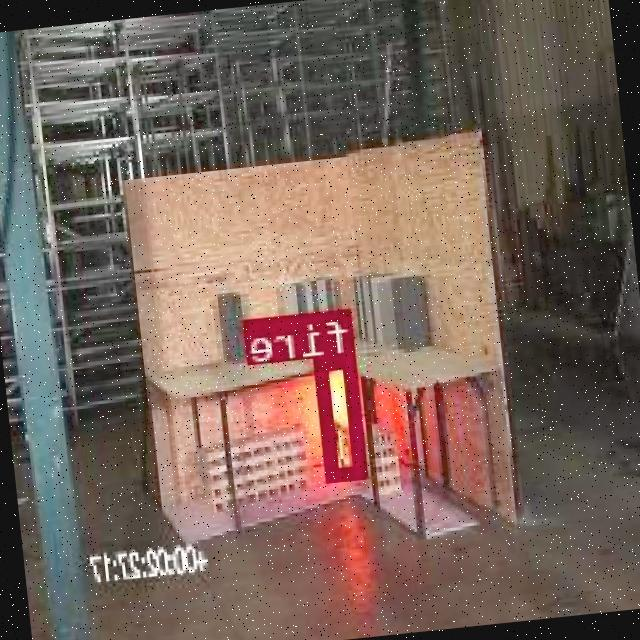fire: (317, 352, 368, 479)
